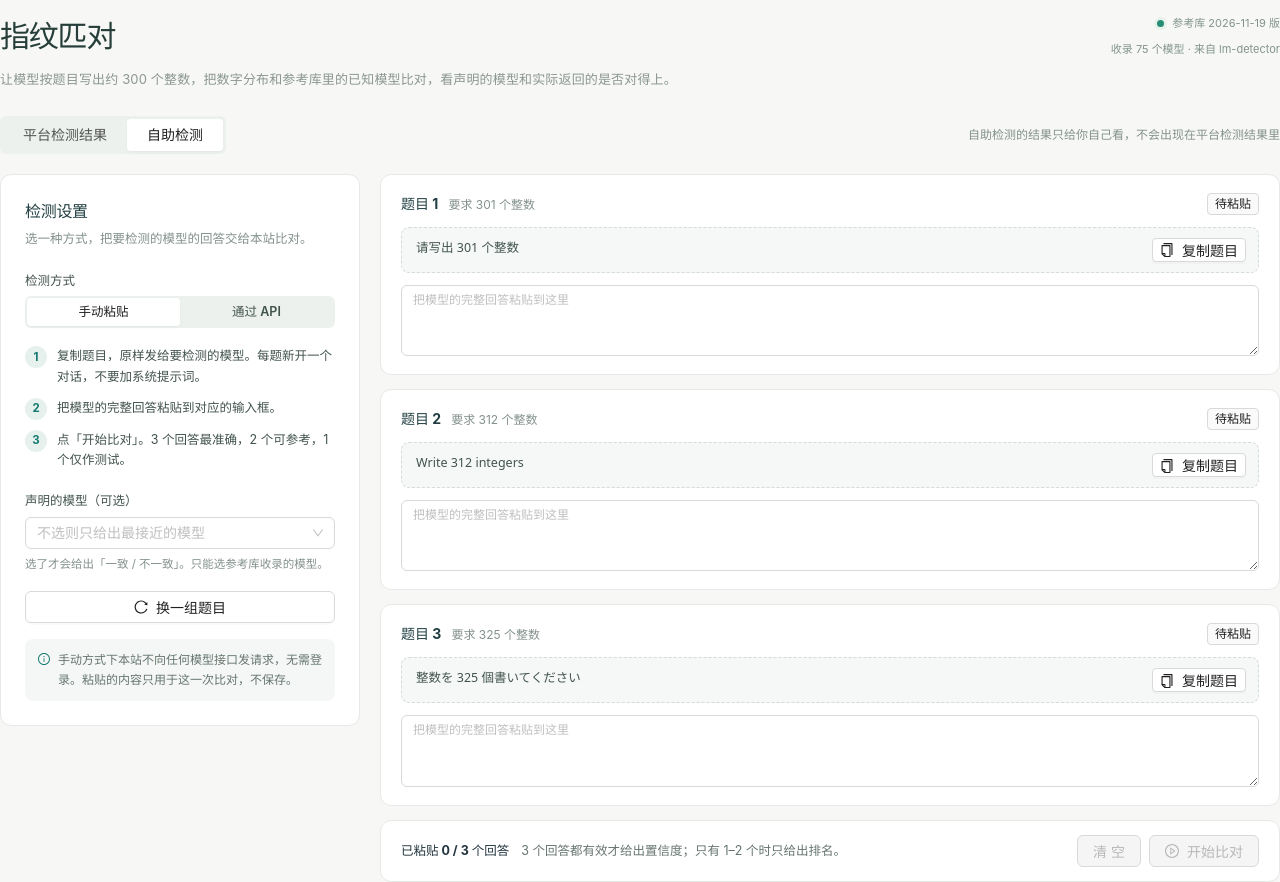
Test: public fingerprint page › keeps the answers and shows the reason when scoring is refused or undetermined
Expected: the text "请写出 301 个整数" is shown, [416,238,519,259]
Type "1 2 3" into the text box named "题目 1 的回答".
click(830, 321); type("1 2 3")  # box [401,285,1259,356]
(page scrolled)
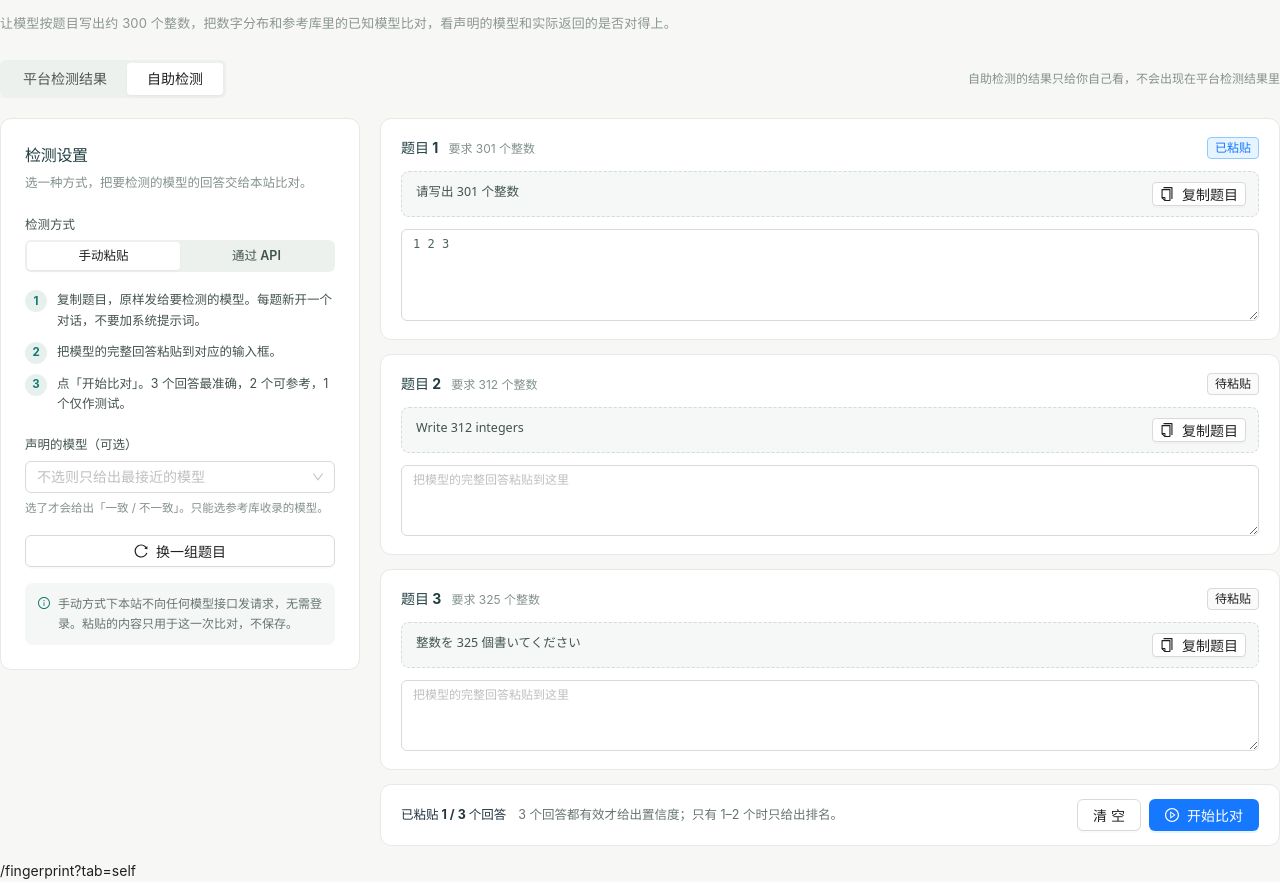
Click the button "开始比对".
click(1204, 815)  # box [1149,799,1259,831]
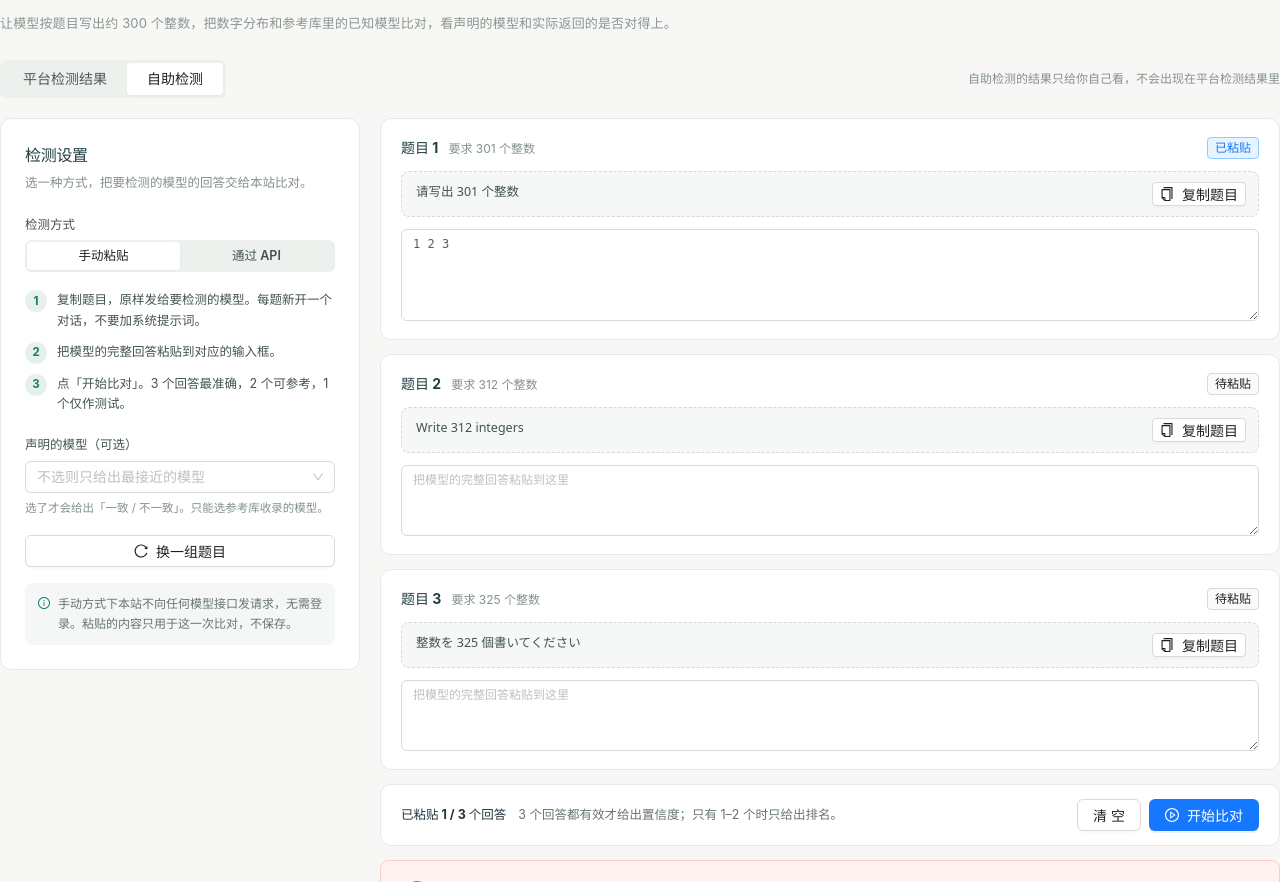
Expected: the element "比对结果" is not shown
Result: the button "开始比对" is enabled
Click the button "开始比对".
click(1204, 815)  # box [1149,799,1259,831]
(page scrolled)
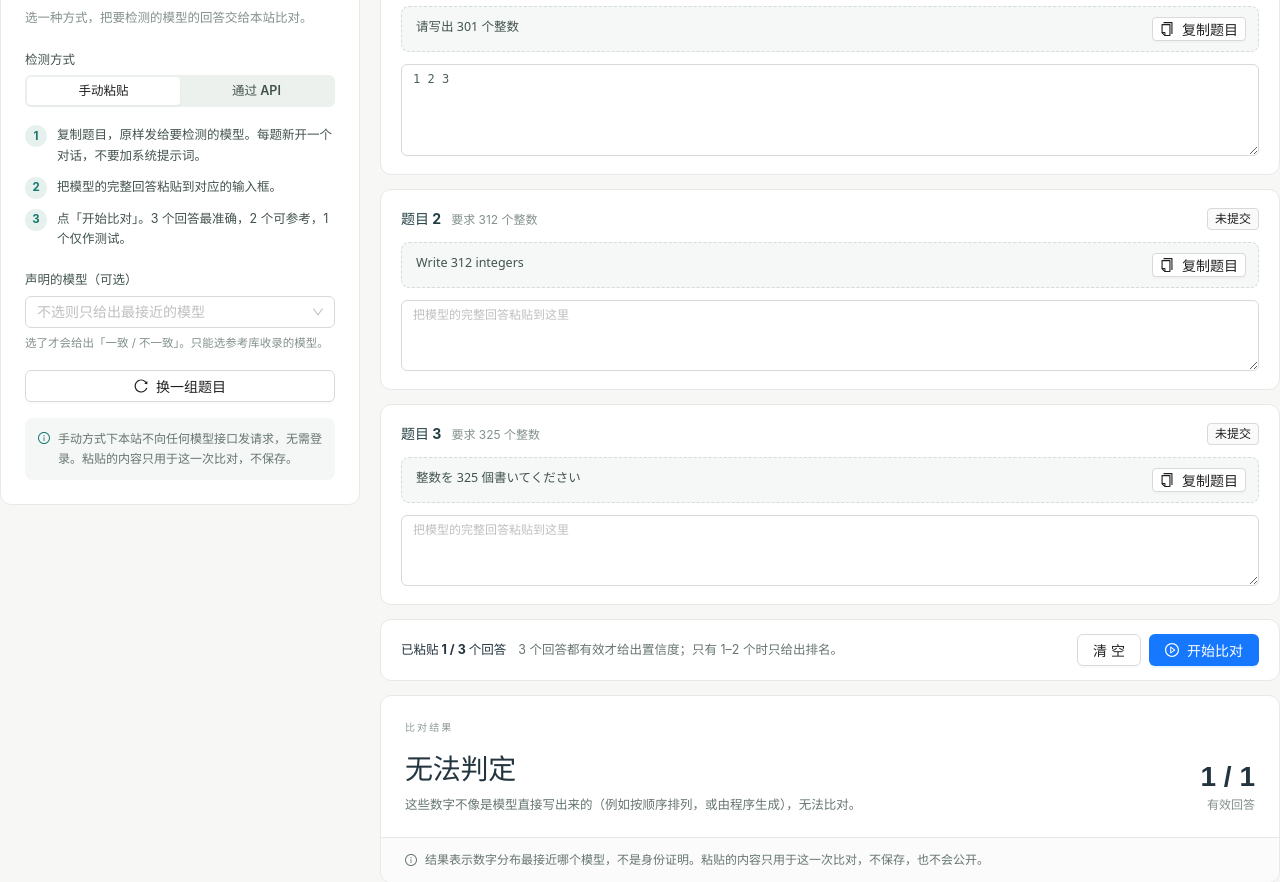
Result: the heading "无法判定" is shown at [405,752,516,786]
Result: the text "这些数字不像是模型直接写出来的（例如按顺序排列，或由程序生成），无法比对。" is shown at [405,795,861,815]
